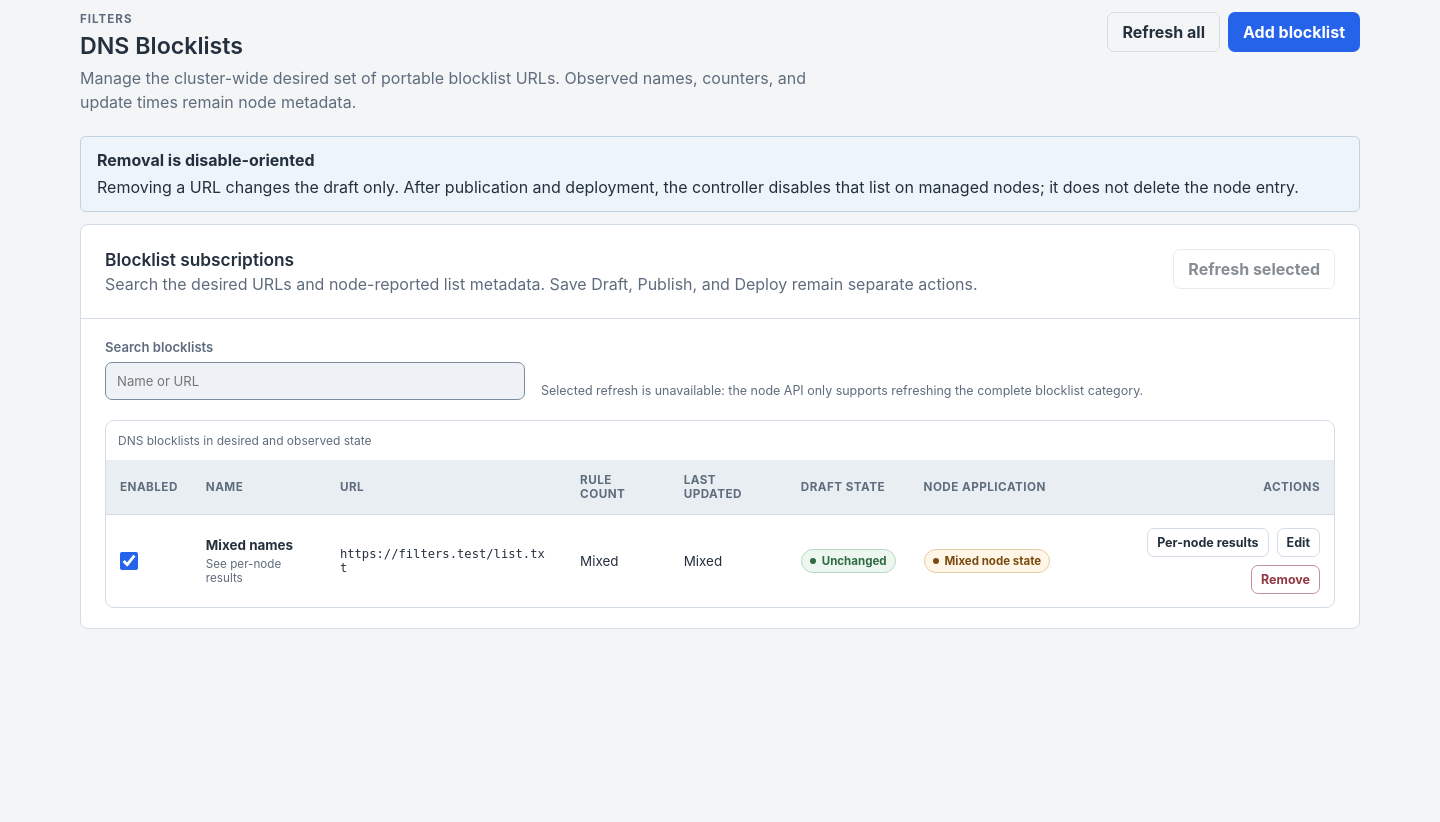
DNS blocklists page › migrates textarea URLs into searchable rows with mixed node metadata
Expected: the text "https://filters.test/list.txt" is shown, top-left (340, 547), bottom-right (552, 575)
Expected: the text "Mixed names" is shown, top-left (206, 537), bottom-right (293, 553)
In the search field labelled "Search blocklists": [315, 381] box top-left (105, 362), bottom-right (525, 400), type "not-present"
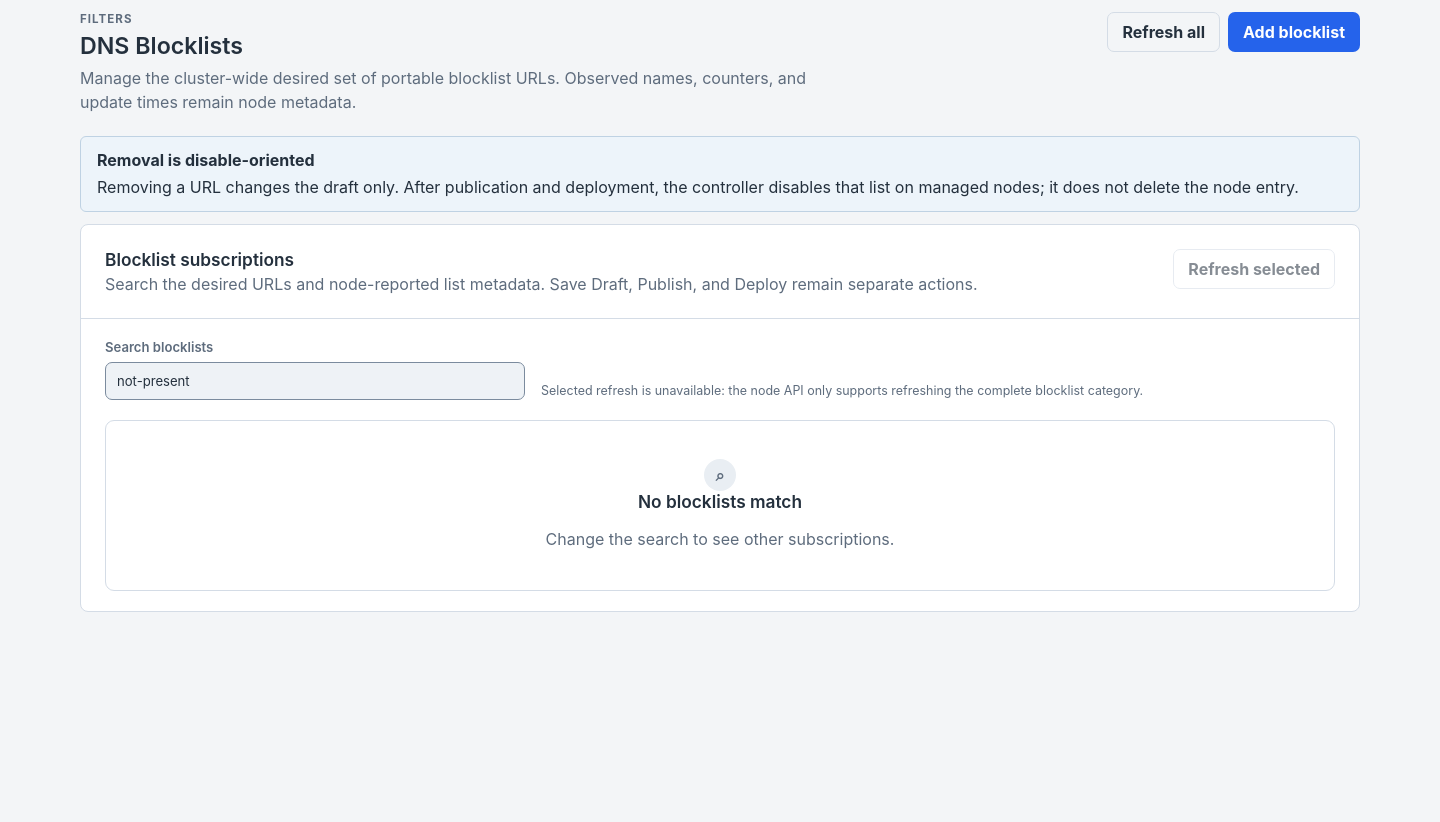
Expected: the heading "No blocklists match" is shown, top-left (638, 491), bottom-right (802, 512)
